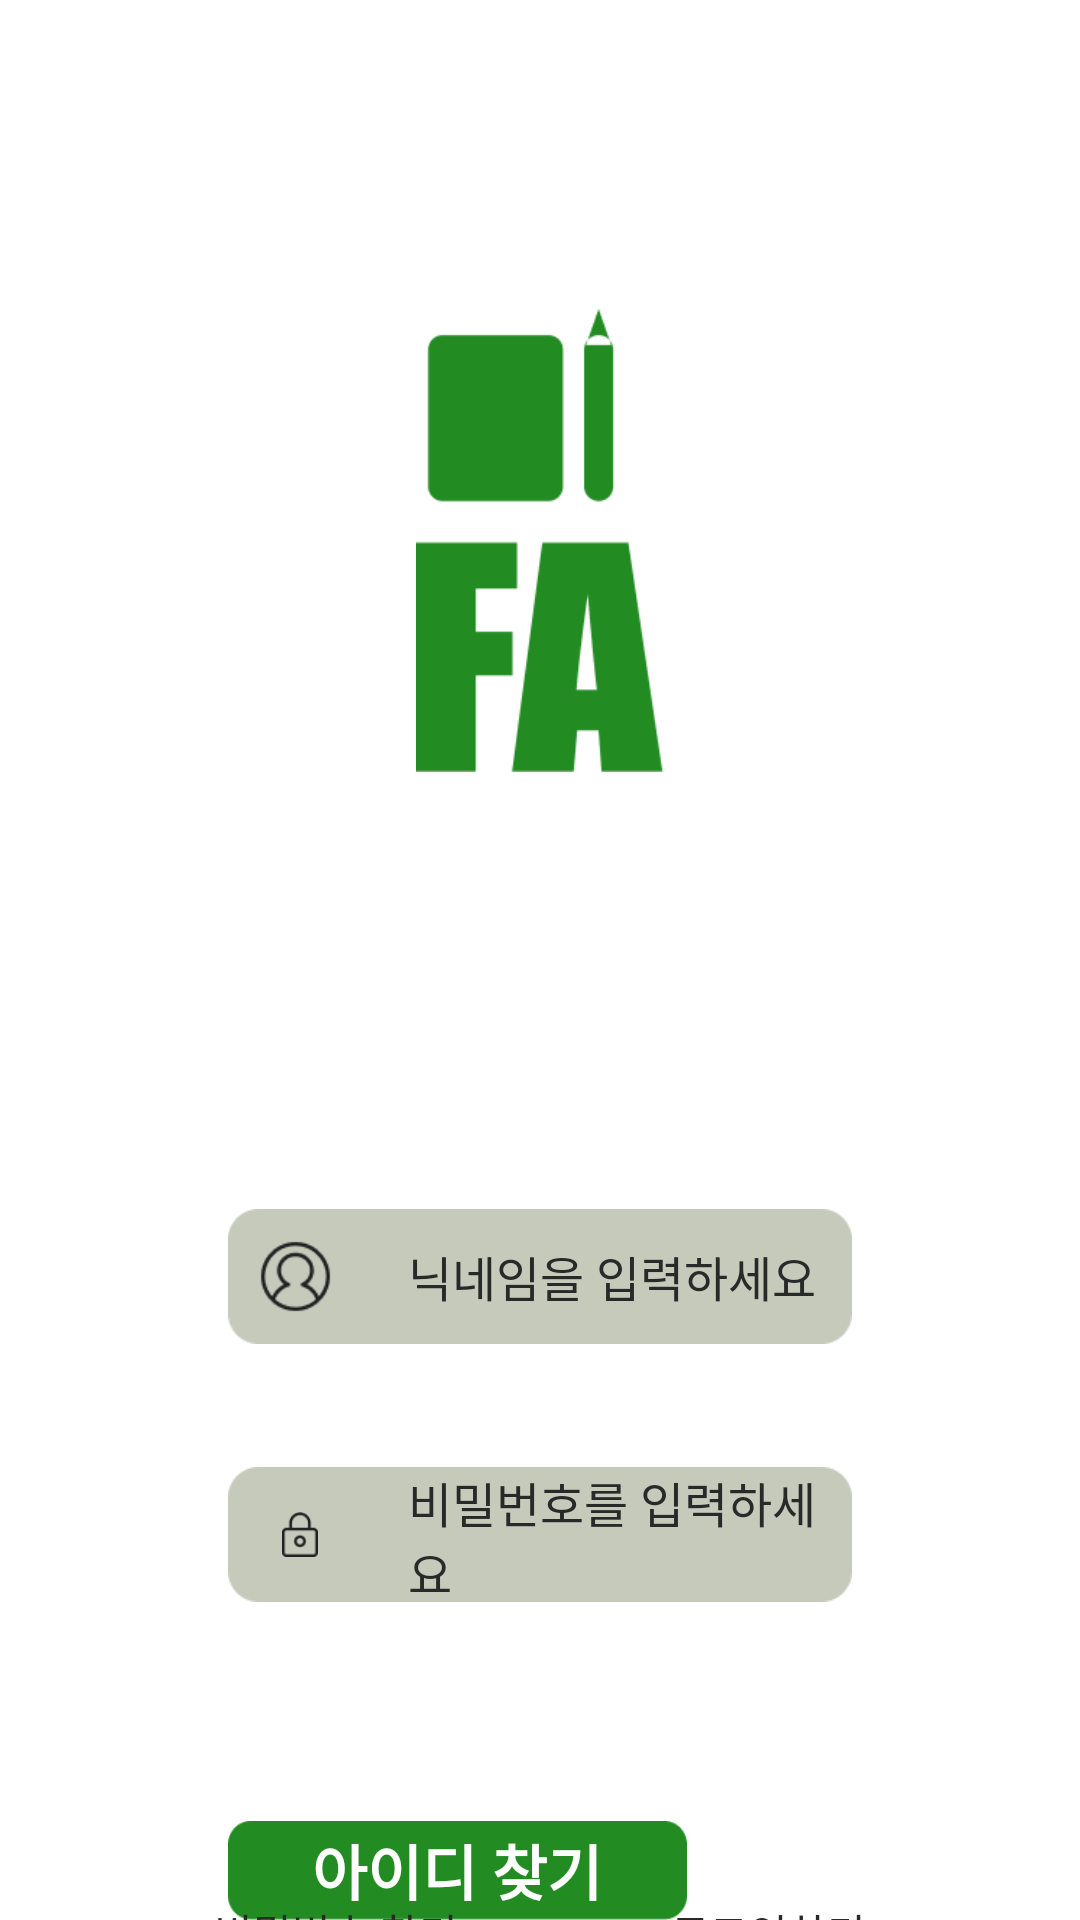

Named icons in this screenshot (1080w x 1920h) and their bounding boxes, Rect(x1, y1, x2, y2):
nickname: Rect(261, 1242, 330, 1311)
password: Rect(282, 1512, 318, 1557)
